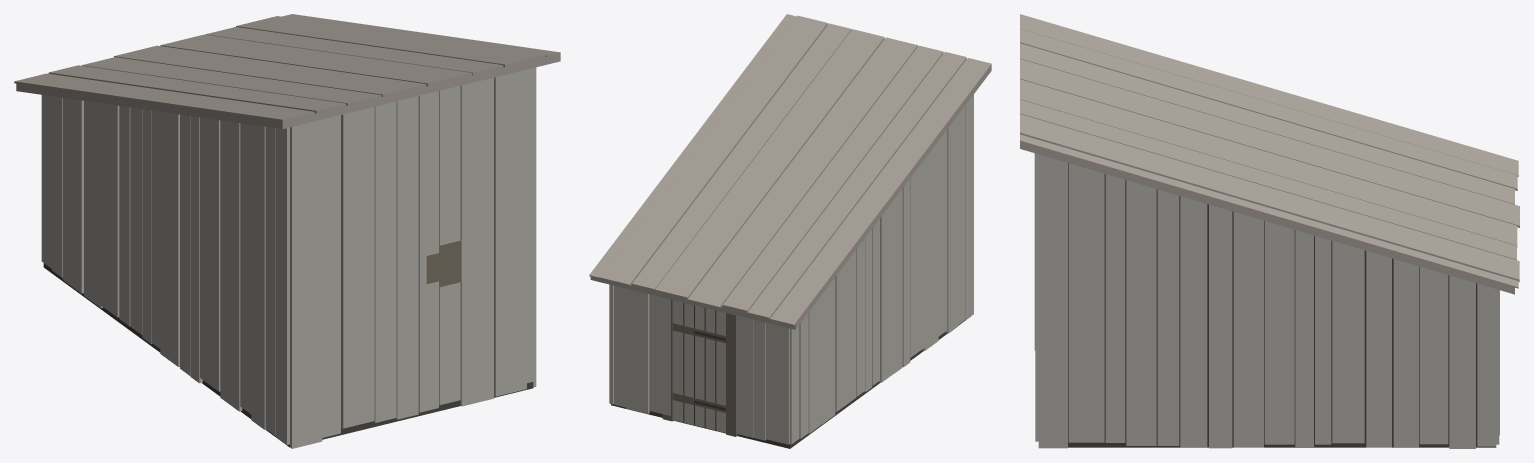
The model's file is recon_1835_blk_washington_franklin_a4_11__inferred_1835.glb.
The picture shows the model from 3 angles, left to right: view 1: azimuth 30°, elevation 25°; view 2: azimuth 150°, elevation 25°; view 3: azimuth 270°, elevation 25°; orthographic projection. The views are drawn at different scales.
Visible parts, largest first — view 1: recon_1835_blk_washington_franklin_a4_11__inferred_1835; view 2: recon_1835_blk_washington_franklin_a4_11__inferred_1835; view 3: recon_1835_blk_washington_franklin_a4_11__inferred_1835.
Boxes of the visible parts, box(x1,y1,x2,y2) form: recon_1835_blk_washington_franklin_a4_11__inferred_1835: box(14, 14, 560, 448); recon_1835_blk_washington_franklin_a4_11__inferred_1835: box(589, 14, 991, 448); recon_1835_blk_washington_franklin_a4_11__inferred_1835: box(1020, 14, 1519, 448).
Bounding box in the file's own units: 3.29 × 3.86 × 5.52.
